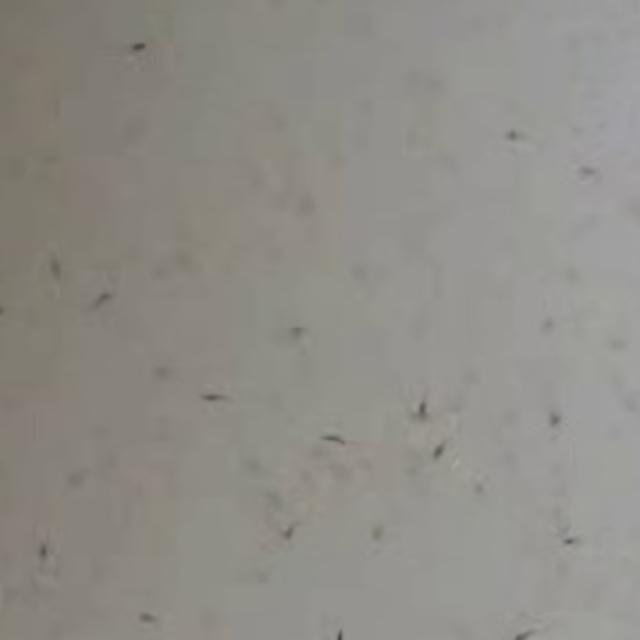shrimp-seed: (74, 278, 120, 328), (190, 381, 248, 419), (553, 522, 613, 556), (36, 244, 72, 294), (129, 602, 171, 640), (422, 432, 461, 470), (272, 514, 306, 556), (28, 529, 58, 576), (489, 120, 539, 147), (302, 425, 357, 449), (412, 385, 441, 425), (116, 34, 154, 61), (505, 618, 547, 640), (324, 619, 363, 640)
